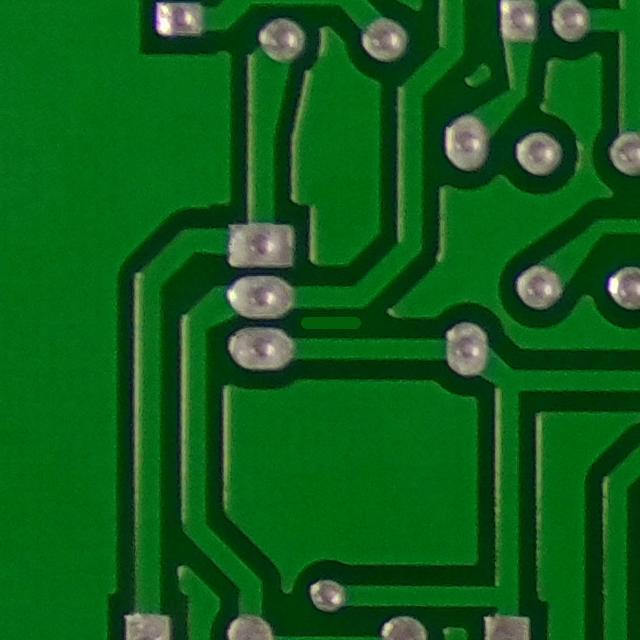spurious_copper: (279, 290, 361, 350)
